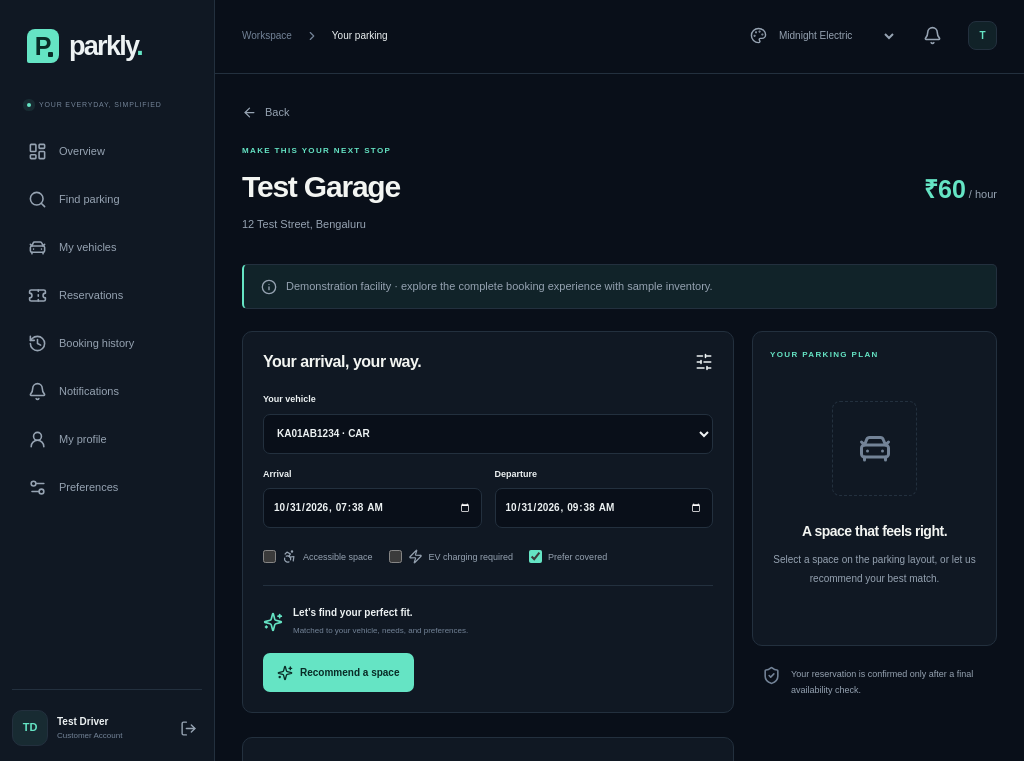
Test: Parking workflows and failures › selects an eligible slot, recommends, and creates a reservation
This screenshot has width=1024, height=761.
Click the button "Recommend a space".
click(338, 672)  # box [263,653,414,692]
(page scrolled)
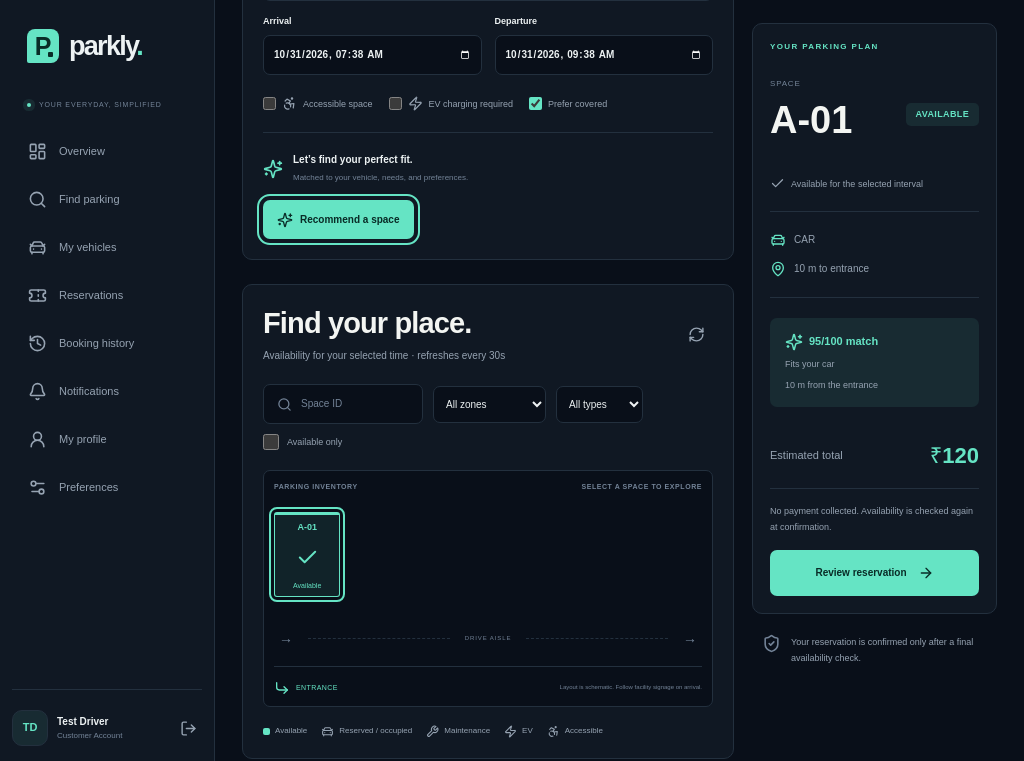
expect the text "95/100 match" is shown: met, box [809,333,878,351]
Click the button "Review reservation".
click(874, 572)  # box [770,549,979,595]
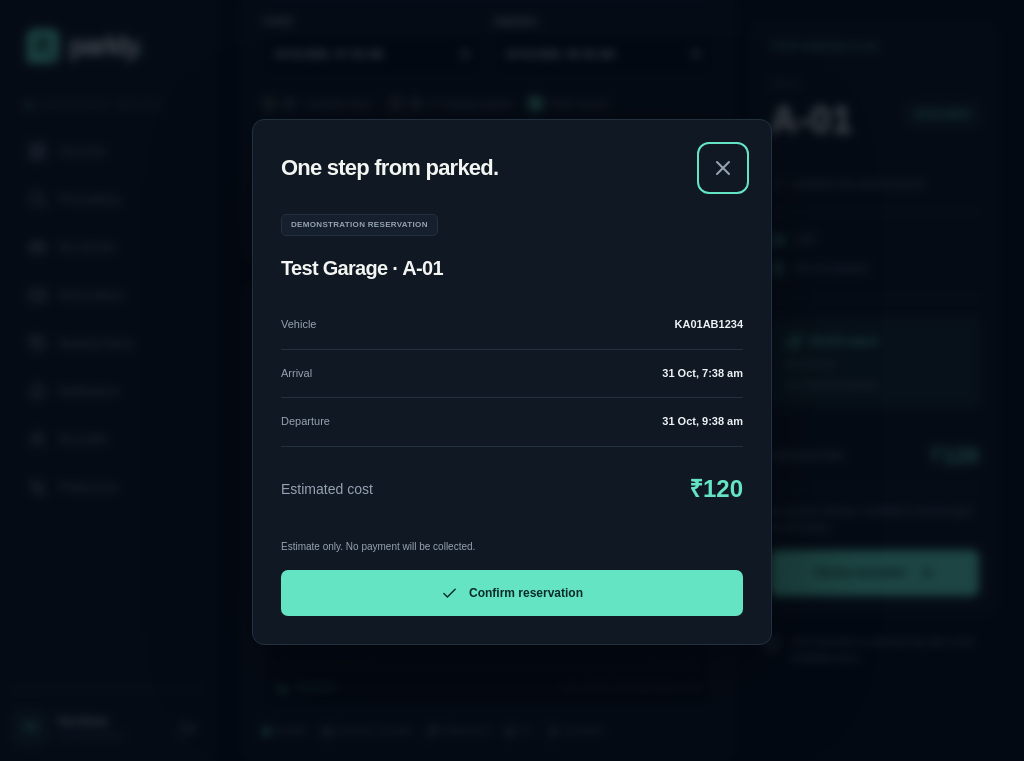
Click the button "Confirm reservation".
click(512, 593)  # box [281,570,743,616]
(page scrolled)
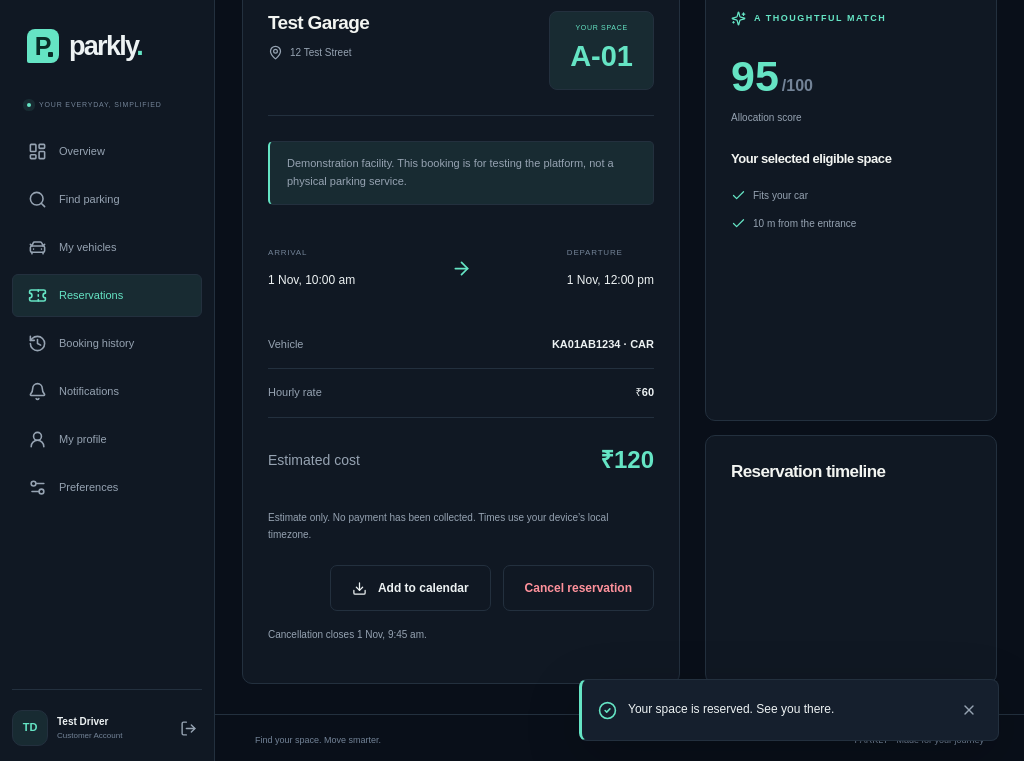
expect the text "No payment has been collected." is shown: met, box [268,512,608,540]
